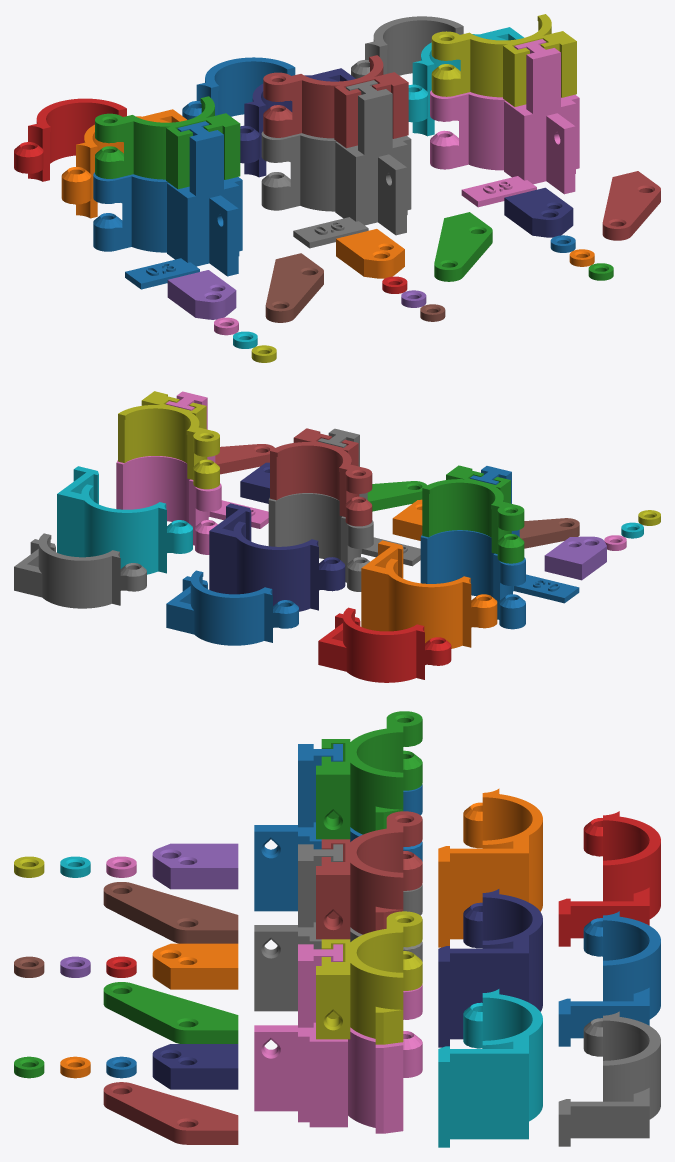
Rendered from clamp-lever-strip.glb.
3 views of the same model, one above another, from view 1: azimuth 30°, elevation 25°; view 2: azimuth 150°, elevation 25°; view 3: azimuth 270°, elevation 25° (orthographic). The views are drawn at different scales.
Visible parts, largest first — view 1: cradle-0-6, cradle-0-9, cradle-0-3, cart-body-0-3, cart-body-0-9, cart-body-0-6, cart-door-0-3, cart-door-0-6, cart-door-0-9, link-0-3, link-0-9, link-0-6 (+6 smaller); view 2: battery-door-0-3, battery-door-0-6, battery-door-0-9, cradle-0-3, cradle-0-9, cradle-0-6, cart-body-0-6, cart-body-0-3, cart-door-0-3, cart-door-0-6, cart-door-0-9, cart-body-0-9 (+6 smaller); view 3: cradle-0-9, battery-door-0-9, battery-door-0-3, battery-door-0-6, cart-body-0-9, cart-body-0-3, cart-body-0-6, cart-door-0-9, cart-door-0-3, cart-door-0-6, cradle-0-3, cradle-0-6 (+6 smaller).
Part boxes in pixels (box(x1,y1,x2,y2)): cradle-0-6: box(261, 80, 411, 248); cradle-0-9: box(430, 39, 579, 207); cradle-0-3: box(93, 121, 242, 289); cart-body-0-3: box(95, 96, 240, 189); cart-body-0-9: box(431, 14, 576, 106); cart-body-0-6: box(263, 55, 408, 148); cart-door-0-3: box(14, 98, 126, 181); cart-door-0-6: box(182, 57, 295, 119); cart-door-0-9: box(351, 16, 463, 78); link-0-3: box(265, 253, 323, 322); link-0-9: box(602, 171, 660, 240); link-0-6: box(434, 212, 492, 281); battery-door-0-3: box(361, 540, 497, 648); battery-door-0-6: box(209, 503, 345, 611); battery-door-0-9: box(57, 466, 192, 574); cradle-0-3: box(420, 466, 579, 629); cradle-0-9: box(116, 391, 268, 554); cradle-0-6: box(268, 428, 420, 591); cart-body-0-6: box(270, 428, 372, 526); cart-body-0-3: box(422, 465, 524, 563); cart-door-0-3: box(318, 607, 451, 682); cart-door-0-6: box(166, 570, 298, 645); cart-door-0-9: box(14, 533, 146, 608); cart-body-0-9: box(118, 391, 219, 489); cradle-0-9: box(254, 944, 422, 1133); battery-door-0-9: box(438, 989, 542, 1147); battery-door-0-3: box(438, 788, 542, 947); battery-door-0-6: box(438, 889, 542, 1047); cart-body-0-9: box(316, 911, 422, 1044); cart-body-0-3: box(316, 711, 422, 839); cart-body-0-6: box(316, 811, 422, 939); cart-door-0-9: box(558, 1011, 660, 1146); cart-door-0-3: box(558, 811, 660, 946); cart-door-0-6: box(558, 911, 660, 1046); cradle-0-3: box(254, 744, 422, 911); cradle-0-6: box(254, 844, 422, 1011).
Bounding box in the file's own units: 0.0868 × 0.0213 × 0.0819.
